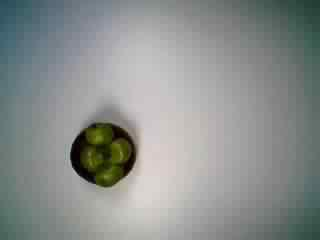mangosteen: (66, 116, 139, 189)
